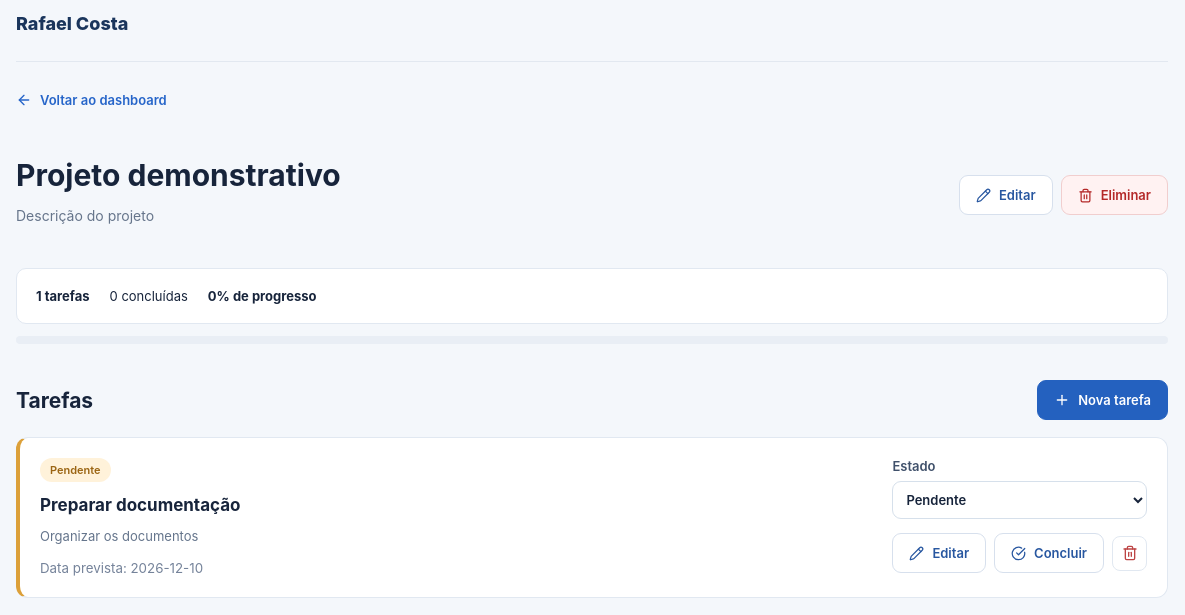
Test: Página de detalhes do projeto › elimina tarefa mediante confirmação
Expected: the heading "Preparar documentação" is shown, [40,495,240,515]
Click the button named "Eliminar tarefa Preparar documentação": (1130, 553) [1112,536,1147,570]
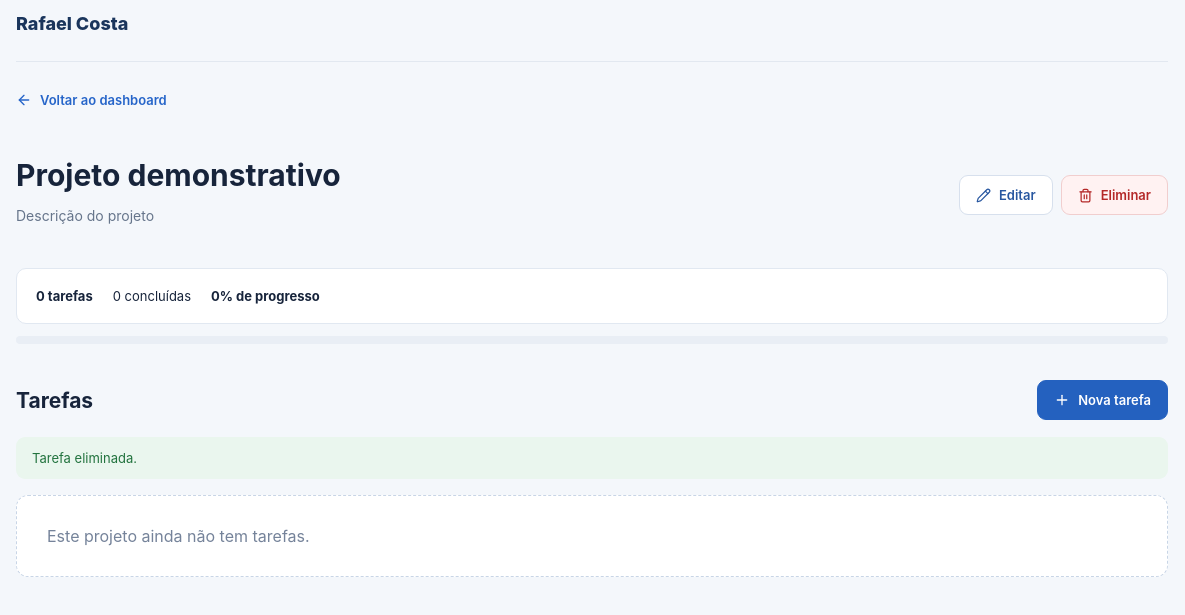
Result: the text "Este projeto ainda não tem tarefas." is shown at [16,495,1168,577]
